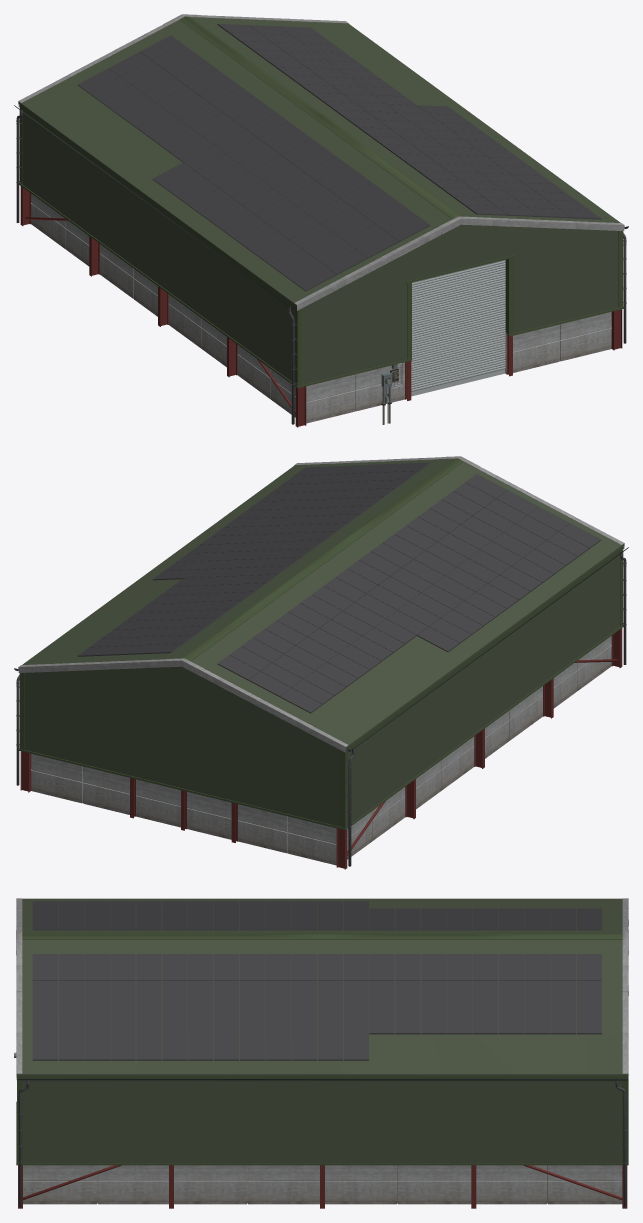
The model's file is grain-shed.glb.
3 views of the same model, one above another, from view 1: azimuth 30°, elevation 25°; view 2: azimuth 150°, elevation 25°; view 3: azimuth 270°, elevation 25° (orthographic). The views are drawn at different scales.
Visible parts, largest first — view 1: main_q, panels_q, wall_q, parts_q, rollingDoor1_q, beams_q, gutter_q; view 2: main_q, panels_q, wall_q, parts_q, beams_q, gutter_q; view 3: main_q, panels_q, wall_q, parts_q, gutter_q, beams_q.
Boxes of the visible parts, <box> form: main_q: <box>18,17,620,384</box>; panels_q: <box>77,24,601,291</box>; wall_q: <box>31,194,611,423</box>; parts_q: <box>18,14,624,388</box>; rollingDoor1_q: <box>411,259,505,396</box>; beams_q: <box>20,186,622,427</box>; gutter_q: <box>14,105,628,424</box>; main_q: <box>22,459,624,826</box>; panels_q: <box>77,462,601,713</box>; wall_q: <box>31,636,611,865</box>; parts_q: <box>18,456,624,830</box>; beams_q: <box>20,628,622,869</box>; gutter_q: <box>14,547,628,866</box>; main_q: <box>17,898,628,1162</box>; panels_q: <box>32,901,601,1060</box>; wall_q: <box>23,1165,622,1204</box>; parts_q: <box>16,898,628,1165</box>; gutter_q: <box>17,1079,627,1206</box>; beams_q: <box>18,1165,627,1208</box>.
Bounding box in the file's own units: 16.84 × 9.03 × 24.22.
Materials: 12 (7 with a texture image).
